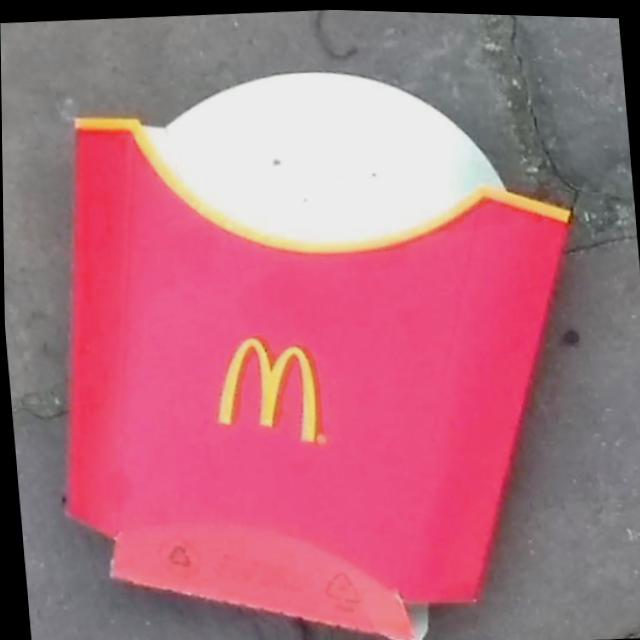Paper: (23, 42, 605, 640)
